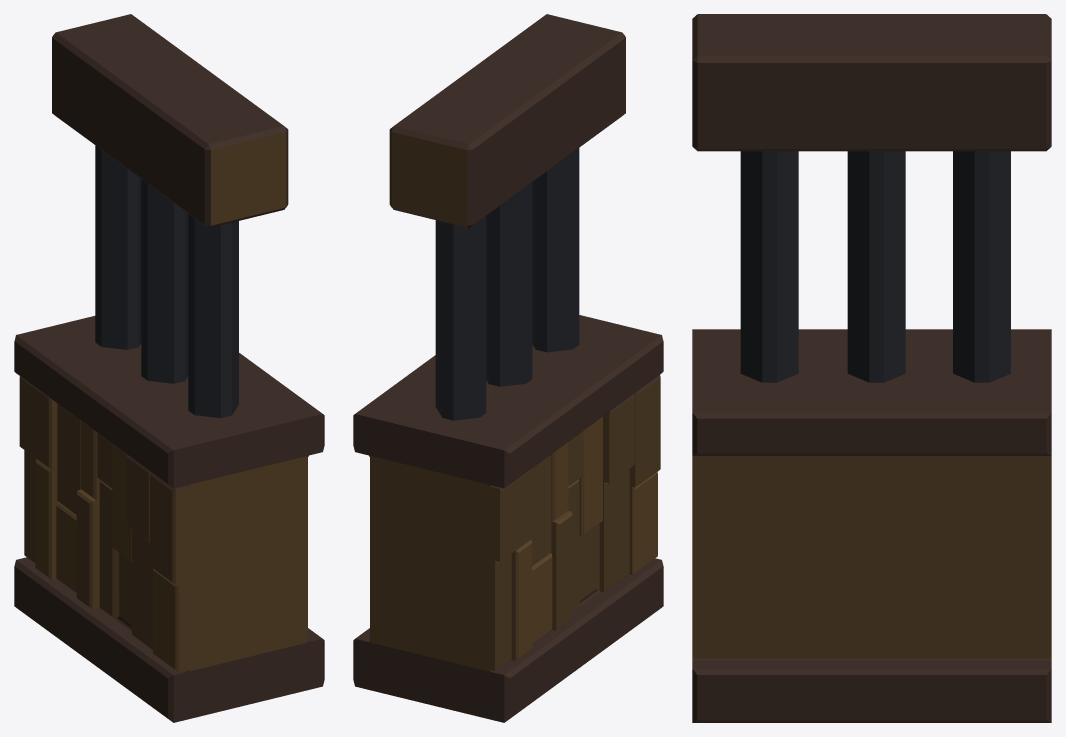
File: Wall.fbx
The picture shows the model from 3 angles, left to right: view 1: azimuth 30°, elevation 25°; view 2: azimuth 150°, elevation 25°; view 3: azimuth 270°, elevation 25°; orthographic projection. The views are drawn at different scales.
Parts seen in each view (by area): view 1: pCube304, pCube362, pCube361, pCube363; view 2: pCube304, pCube363, pCube362, pCube361; view 3: pCube304, pCube362, pCube361, pCube363.
Boxes of the visible parts, bbox=[...] form: pCube304: bbox=[14, 14, 324, 722]; pCube362: bbox=[188, 213, 238, 418]; pCube361: bbox=[141, 179, 188, 383]; pCube363: bbox=[95, 145, 141, 349]; pCube304: bbox=[353, 14, 663, 722]; pCube363: bbox=[435, 216, 486, 420]; pCube362: bbox=[532, 148, 579, 352]; pCube361: bbox=[486, 182, 532, 386]; pCube304: bbox=[692, 14, 1051, 722]; pCube362: bbox=[740, 151, 798, 382]; pCube361: bbox=[847, 151, 905, 382]; pCube363: bbox=[953, 151, 1010, 382].
Size of the model in its own units: 5.2 by 18.01 by 9.06.
